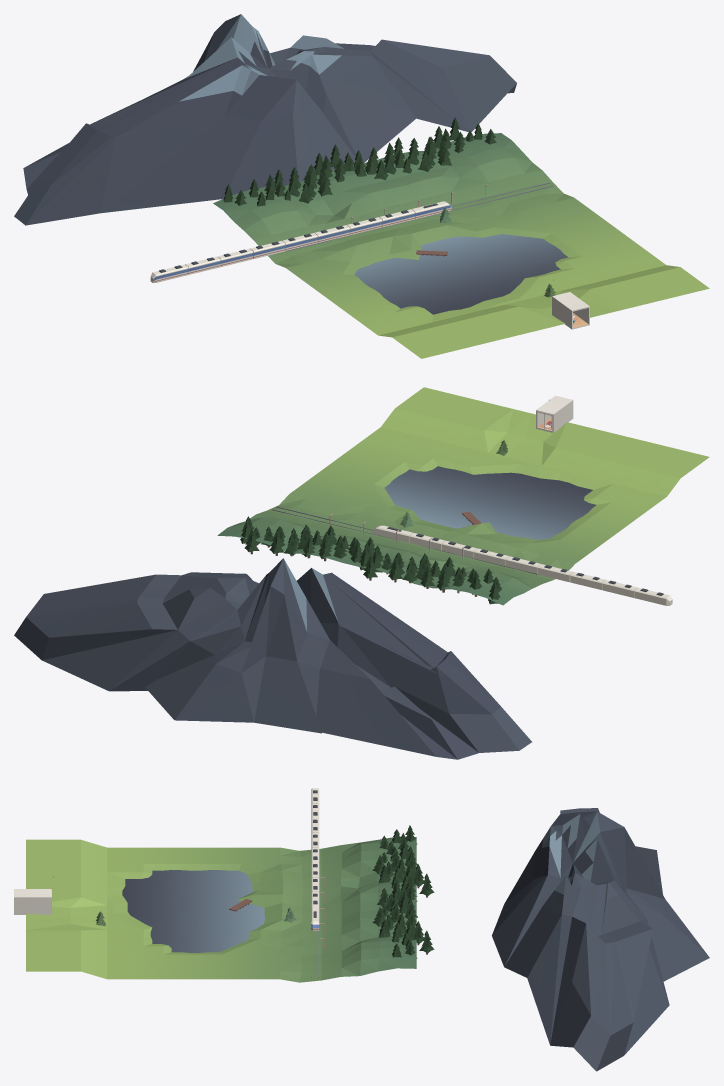
The picture shows the model from 3 angles, top to bottom: view 1: azimuth 30°, elevation 25°; view 2: azimuth 150°, elevation 25°; view 3: azimuth 270°, elevation 25°; orthographic projection. The views are drawn at different scales.
Visible parts, largest first — view 1: Ground +Lake, Mountain.001, Forest.002, Sofa; view 2: Mountain.001, Ground +Lake, Forest.002, Sofa; view 3: Ground +Lake, Mountain.001, Forest.002, Sofa.
Boxes of the visible parts, bbox=[...] form: Ground +Lake: bbox=[213, 133, 709, 358]; Mountain.001: bbox=[14, 14, 516, 225]; Forest.002: bbox=[223, 117, 496, 206]; Sofa: bbox=[552, 292, 589, 329]; Mountain.001: bbox=[14, 558, 531, 759]; Ground +Lake: bbox=[217, 387, 709, 605]; Forest.002: bbox=[240, 516, 501, 604]; Sofa: bbox=[536, 395, 573, 432]; Ground +Lake: bbox=[26, 836, 416, 982]; Mountain.001: bbox=[492, 808, 709, 1071]; Forest.002: bbox=[372, 825, 434, 958]; Sofa: bbox=[14, 889, 51, 914].
Bounding box in the file's own units: 19.77 × 5.54 × 24.83.
